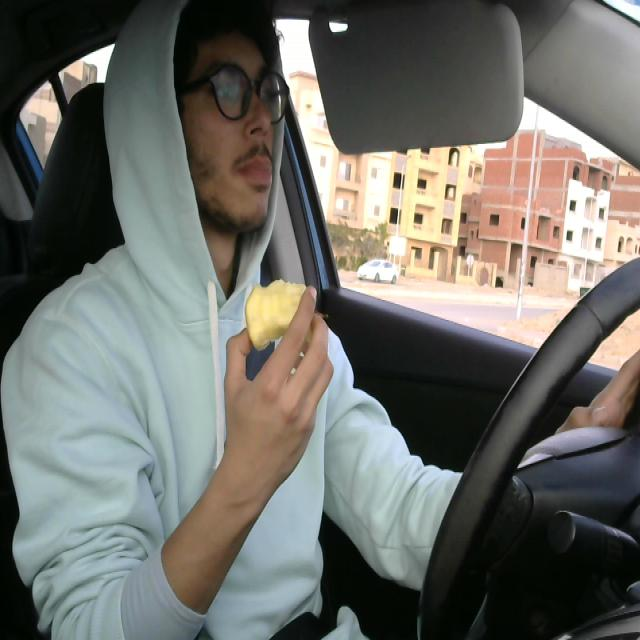eating: (238, 273, 320, 356)
